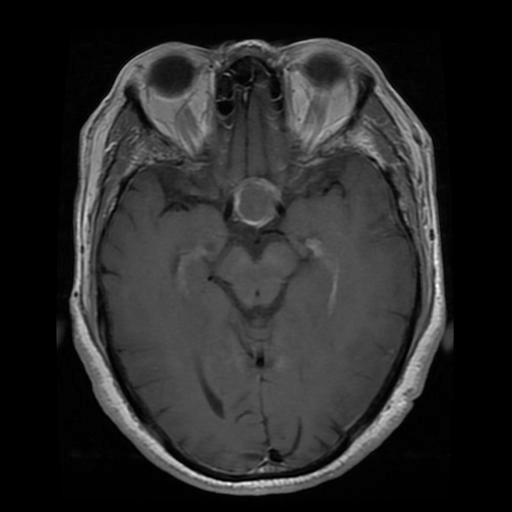Tumour-Pituitary: (219, 181, 289, 237)
